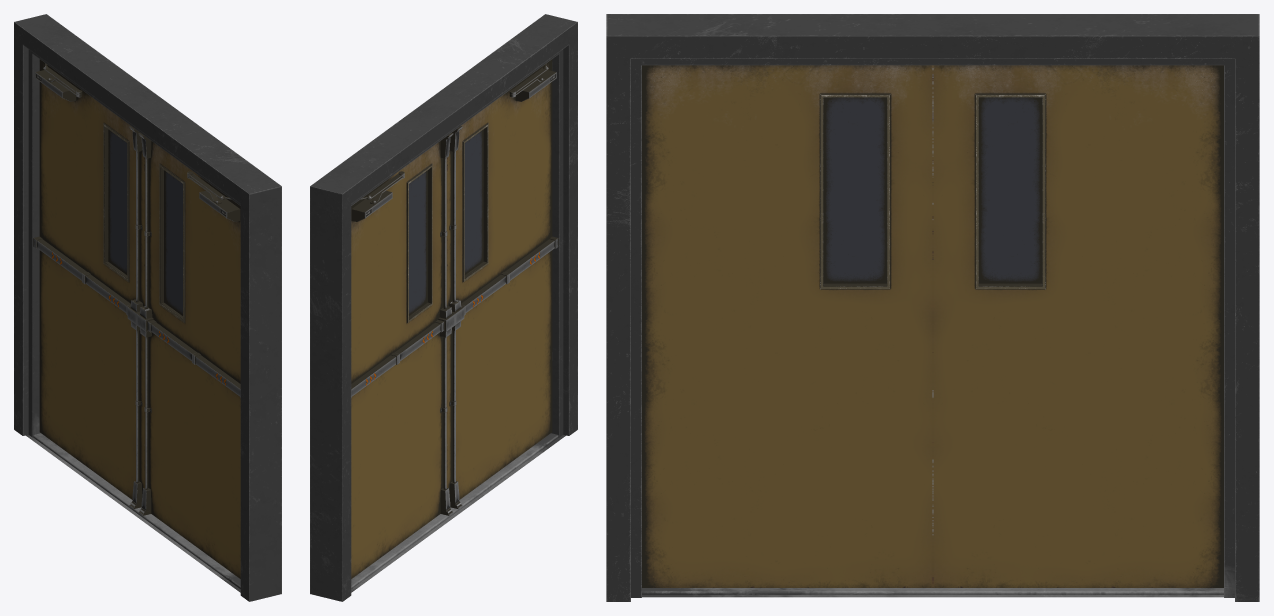
Rendered from double_door (1).glb.
3 views of the same model, side by side, from view 1: azimuth 30°, elevation 25°; view 2: azimuth 150°, elevation 25°; view 3: azimuth 270°, elevation 25° (orthographic). The views are drawn at different scales.
Visible parts, largest first — view 1: 01_01_0, 02_02_0; view 2: 01_01_0, 02_02_0; view 3: 01_01_0, 02_02_0.
Part boxes in pixels (bbox=[...]): 01_01_0: bbox=[33, 59, 240, 578]; 02_02_0: bbox=[14, 14, 281, 601]; 01_01_0: bbox=[351, 59, 558, 578]; 02_02_0: bbox=[310, 14, 577, 601]; 01_01_0: bbox=[642, 65, 1223, 587]; 02_02_0: bbox=[606, 14, 1259, 601].
Size of the model in its own units: 24.74 by 289 by 303.
2 materials, 2 textured.
